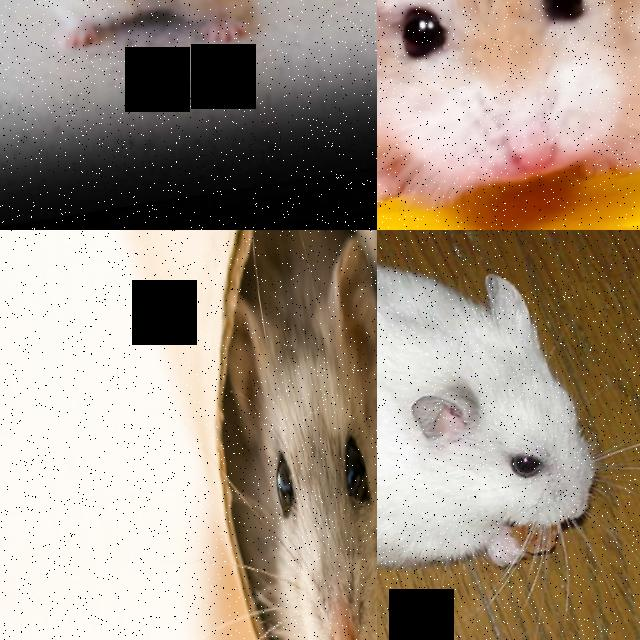hamster: (377, 230, 615, 598), (209, 237, 377, 640), (377, 0, 640, 228), (0, 0, 295, 75)
